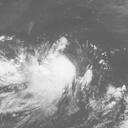cyclone: (28, 53, 76, 102)
